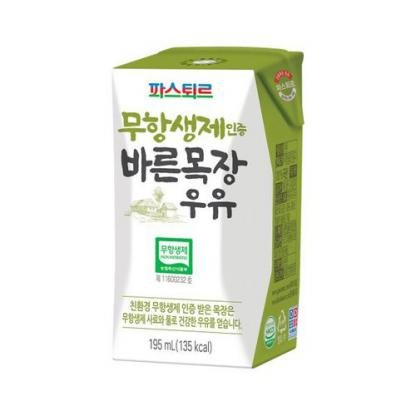tetra: (74, 13, 340, 395)
